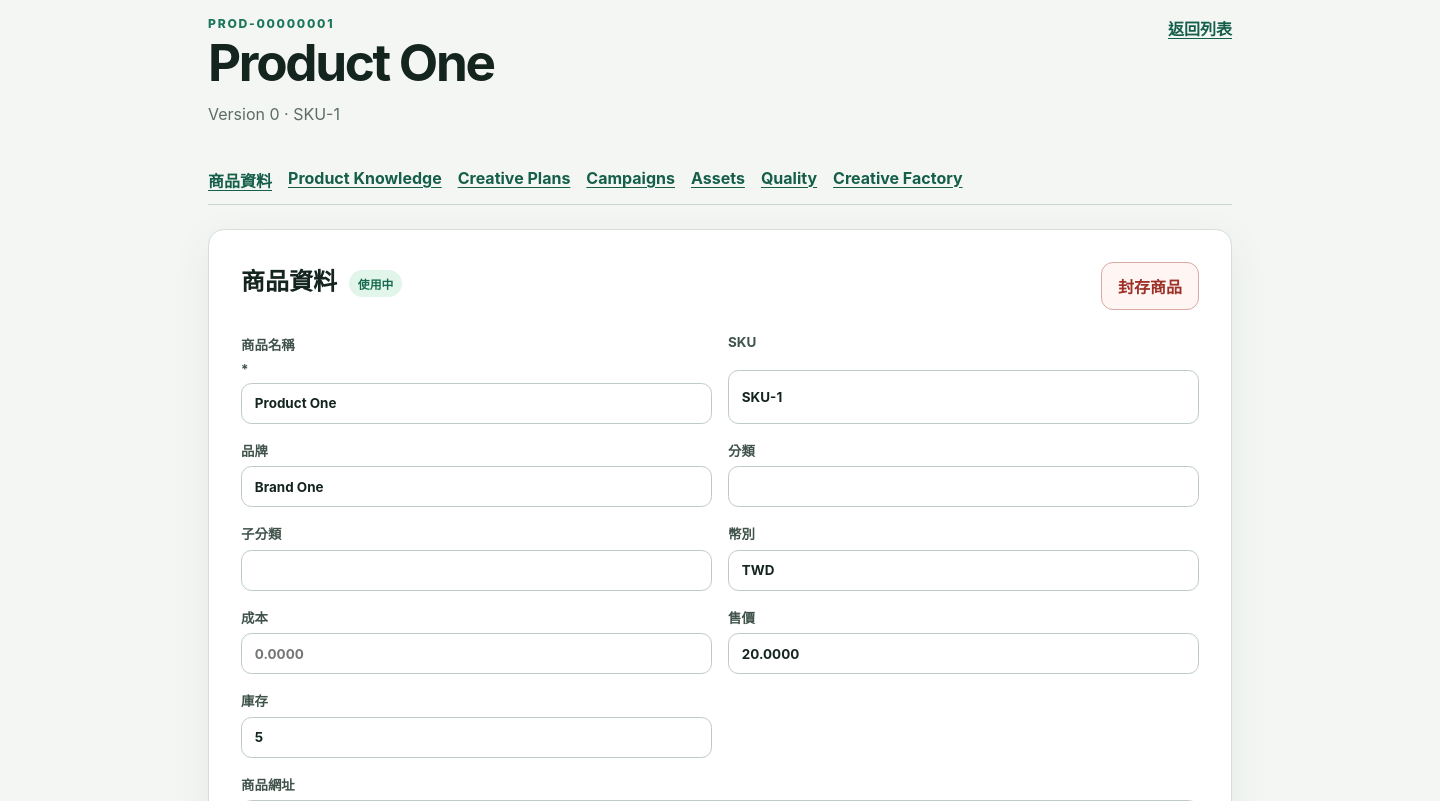
Test: ProductDetailView › reports a missing ETag instead of silently ignoring a save
The width and height of the screenshot is (1440, 801).
Replace the text in the field labelled "品牌" with "Brand Two" at (476, 487), box x1=241 y1=466 x2=712 y2=507
(page scrolled)
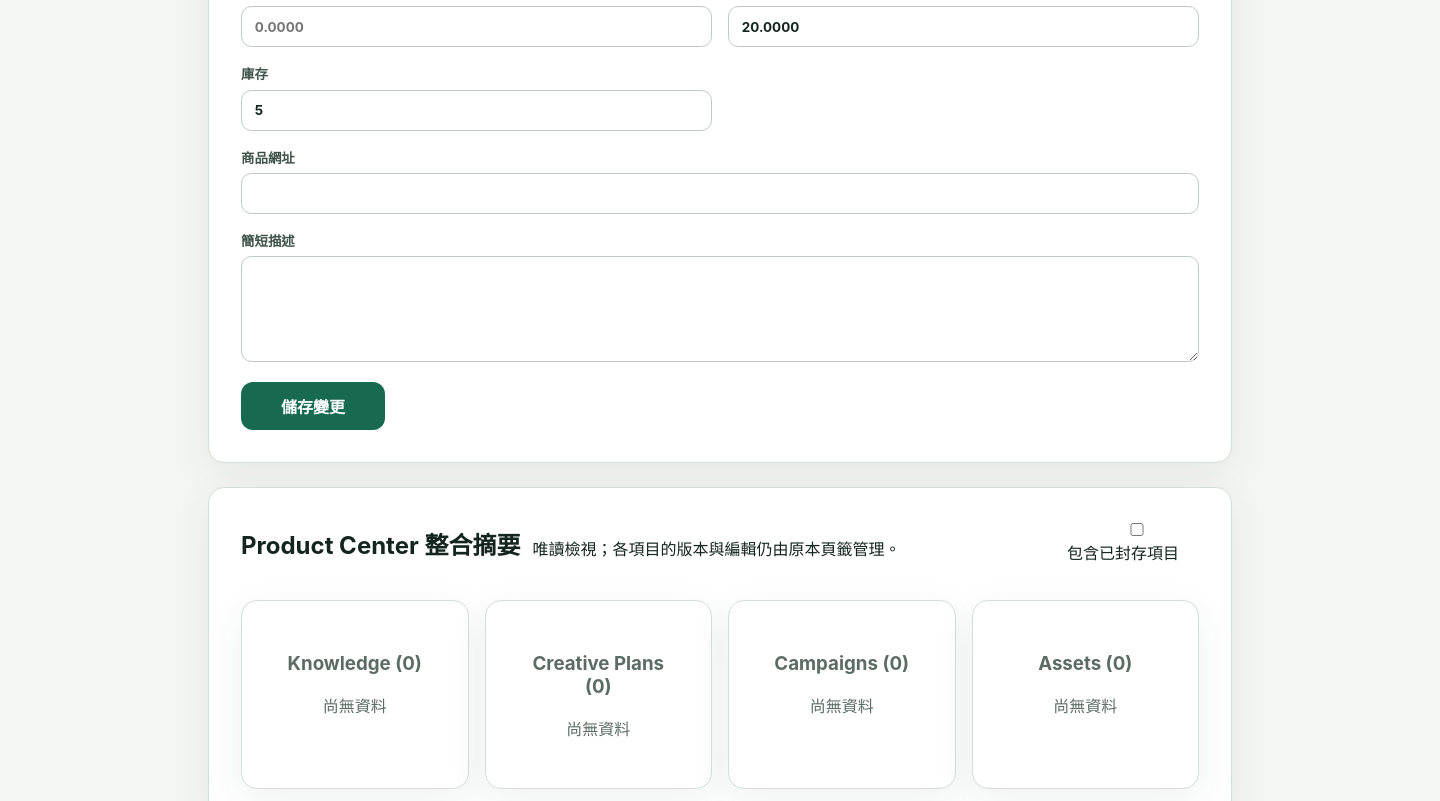
Click the button "儲存變更" at (313, 406), box x1=241 y1=382 x2=385 y2=430
(page scrolled)
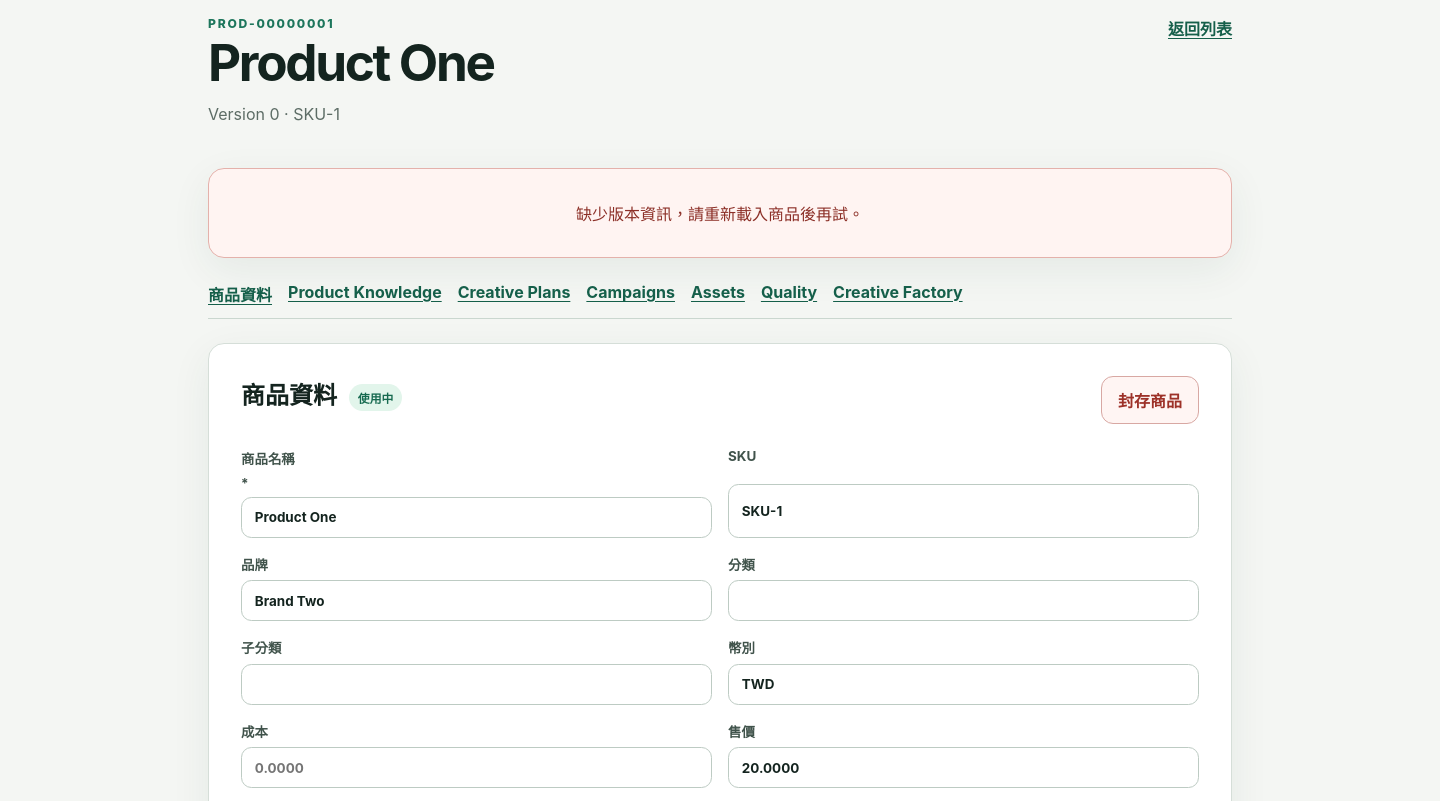
Result: the message shows "缺少版本資訊" at x1=576 y1=204 x2=864 y2=224
